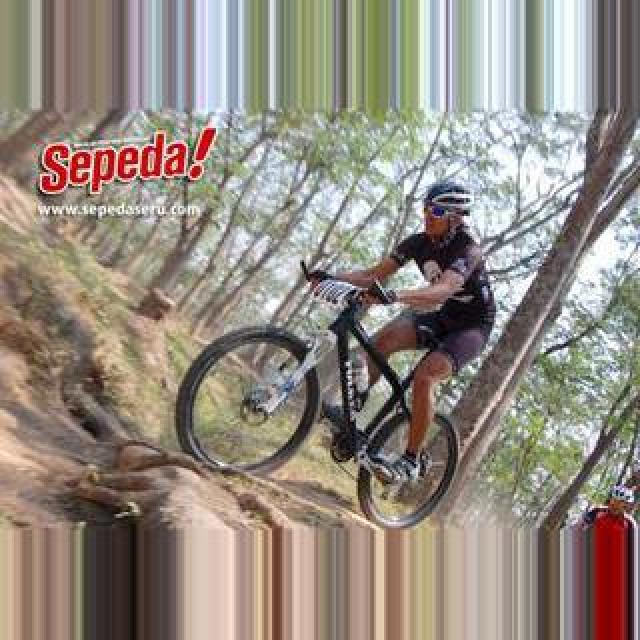MC-Bike: (304, 182, 496, 480)
Person: (182, 248, 492, 526)
